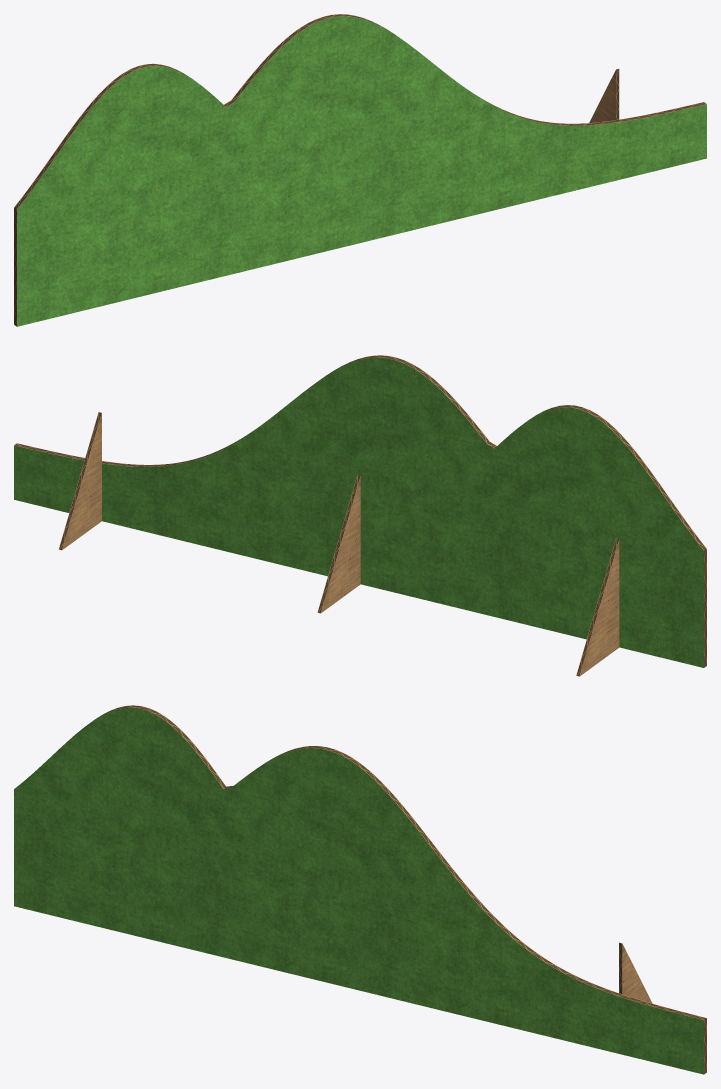
The model's file is hill_backdrop_00.gltf.
3 views of the same model, one above another, from view 1: azimuth 30°, elevation 25°; view 2: azimuth 150°, elevation 25°; view 3: azimuth 330°, elevation 25° (orthographic).
Visible parts, largest first — view 1: hill_backdrop_00; view 2: hill_backdrop_00; view 3: hill_backdrop_00.
Part boxes in pixels (bbox=[...]): hill_backdrop_00: bbox=[14, 14, 706, 326]; hill_backdrop_00: bbox=[14, 355, 706, 676]; hill_backdrop_00: bbox=[14, 705, 706, 1074].
Size of the model in its own units: 8 by 2.58 by 0.86.
Materials: 3 (3 with a texture image).
